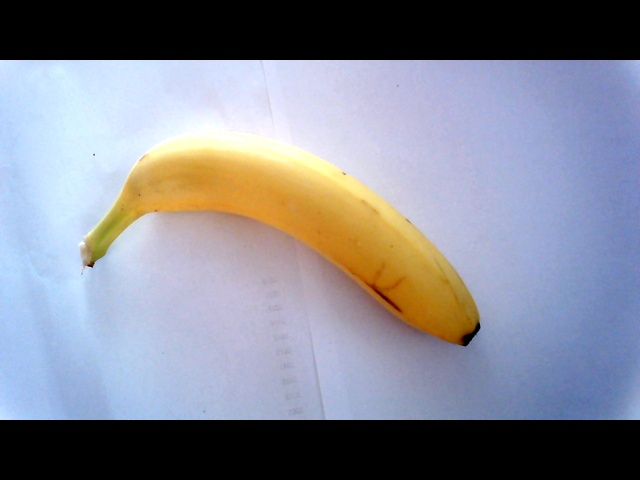banana: (96, 133, 494, 349)
